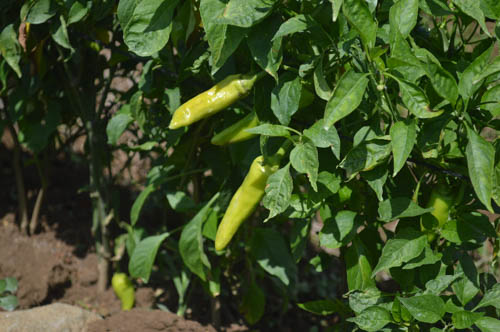ChiliPepper: (213, 154, 283, 254), (209, 86, 320, 145), (167, 75, 250, 129), (420, 190, 452, 255), (111, 275, 138, 314)
